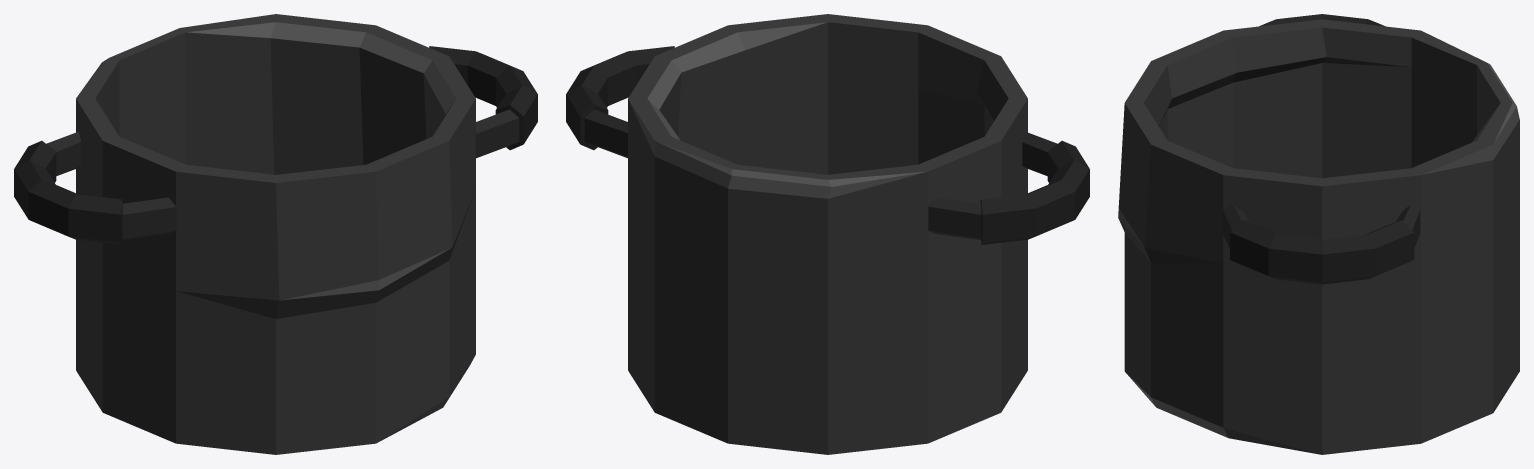
The model's file is mesh_pot.fbx.
3 renders of one model, left to right at view 1: azimuth 30°, elevation 25°; view 2: azimuth 150°, elevation 25°; view 3: azimuth 270°, elevation 25°, orthographic.
Parts seen in each view (by area): view 1: mesh_pot; view 2: mesh_pot; view 3: mesh_pot.
Boxes of the visible parts, left/top/right/bottom form: mesh_pot: left=14, top=14, right=537, bottom=454; mesh_pot: left=566, top=14, right=1089, bottom=454; mesh_pot: left=1118, top=14, right=1519, bottom=454.
Bounding box in the file's own units: 0.5711 × 0.3 × 0.4066.
